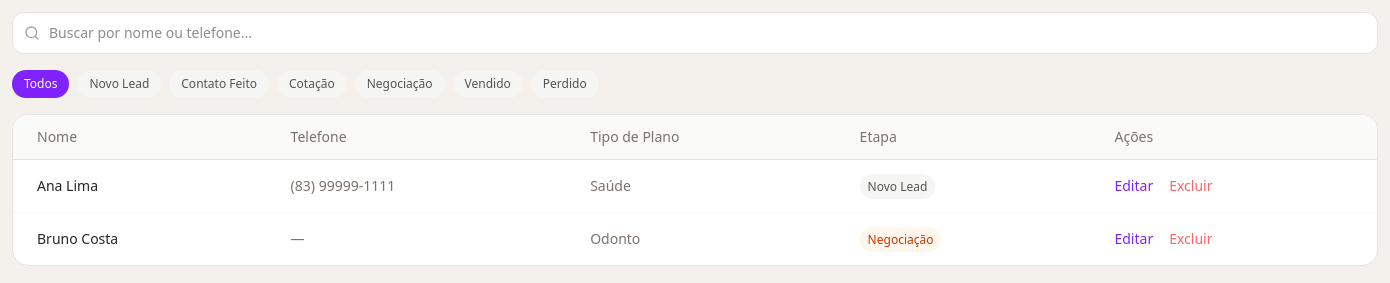
LeadTable › shows empty message when no leads match
Click the button "Cotação" at (312, 84), box [277, 70, 347, 98]
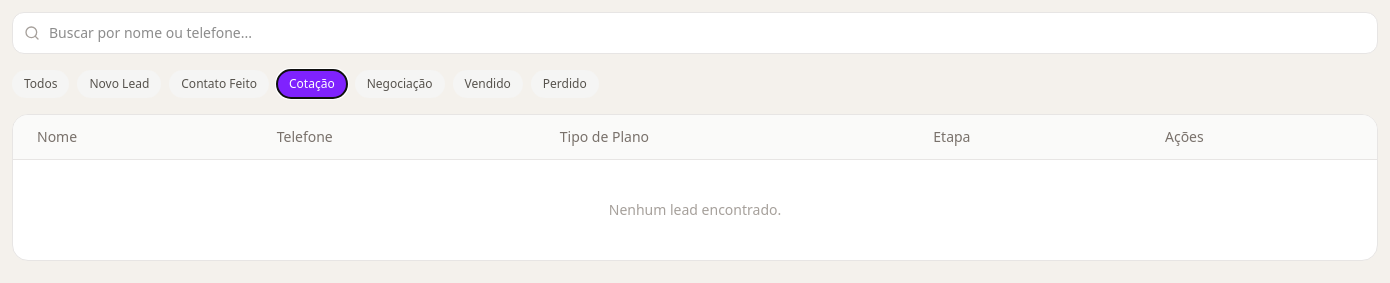
expect the text "Nenhum lead encontrado." is shown: met, box [13, 160, 1377, 260]
